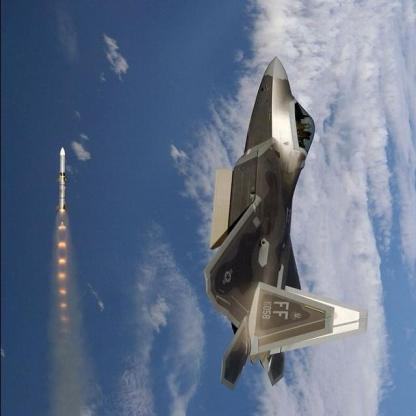MIL_TBM: (56, 147, 68, 215)
